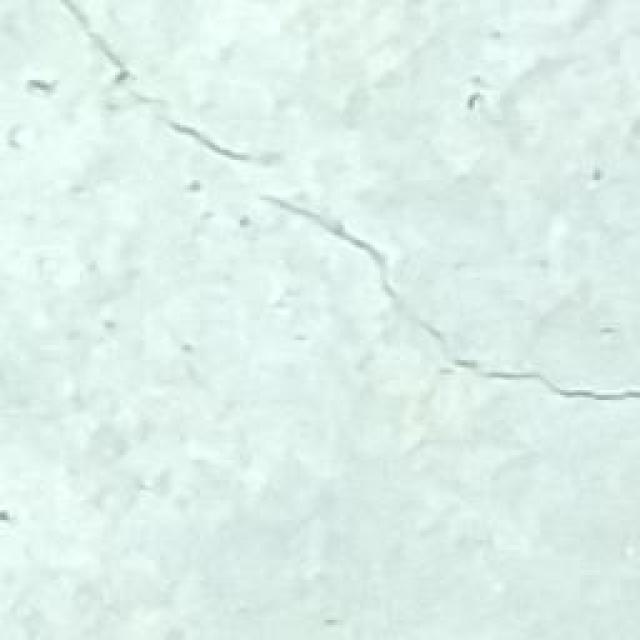Diagonal: (38, 0, 640, 427)
